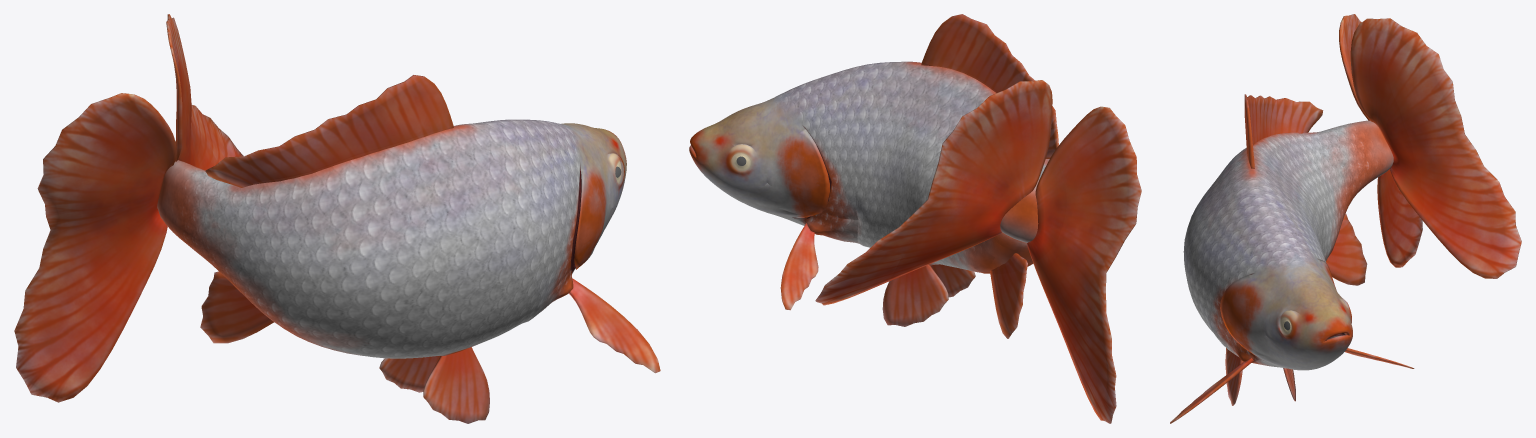
File: jikin.glb
The picture shows the model from 3 angles, left to right: view 1: azimuth 30°, elevation 25°; view 2: azimuth 150°, elevation 25°; view 3: azimuth 270°, elevation 25°; orthographic projection. The views are drawn at different scales.
Parts seen in each view (by area): view 1: SW_Jikin_Body_M_JikinBody_0, SW_Jikin_FinCaudal_M_JikinFins_0, SW_Jikin_FinDorsal_M_JikinFins_0, SW_Jikin_FinPelvic_M_JikinFins_0, SW_Jikin_FinPectoral_M_JikinFins_0, SW_Jikin_FinAnal_M_JikinFins_0; view 2: SW_Jikin_FinCaudal_M_JikinFins_0, SW_Jikin_Body_M_JikinBody_0, SW_Jikin_FinDorsal_M_JikinFins_0, SW_Jikin_FinPelvic_M_JikinFins_0, SW_Jikin_FinAnal_M_JikinFins_0, SW_Jikin_FinPectoral_M_JikinFins_0, SW_Jikin_Eyes_M_Cornea_0, SW_Jikin_Eyes_M_Iris_0; view 3: SW_Jikin_Body_M_JikinBody_0, SW_Jikin_FinCaudal_M_JikinFins_0, SW_Jikin_FinDorsal_M_JikinFins_0, SW_Jikin_FinAnal_M_JikinFins_0, SW_Jikin_FinPectoral_M_JikinFins_0, SW_Jikin_FinPelvic_M_JikinFins_0, SW_Jikin_Eyes_M_Cornea_0.
Part boxes in pixels (box(x1,y1,x2,y2)): SW_Jikin_Body_M_JikinBody_0: box(157, 119, 626, 358); SW_Jikin_FinCaudal_M_JikinFins_0: box(14, 14, 243, 402); SW_Jikin_FinDorsal_M_JikinFins_0: box(205, 75, 453, 187); SW_Jikin_FinPelvic_M_JikinFins_0: box(379, 347, 489, 423); SW_Jikin_FinPectoral_M_JikinFins_0: box(569, 278, 660, 373); SW_Jikin_FinAnal_M_JikinFins_0: box(200, 271, 273, 343); SW_Jikin_FinCaudal_M_JikinFins_0: box(815, 80, 1141, 423); SW_Jikin_Body_M_JikinBody_0: box(689, 61, 1049, 273); SW_Jikin_FinDorsal_M_JikinFins_0: box(921, 14, 1058, 158); SW_Jikin_FinPelvic_M_JikinFins_0: box(882, 264, 975, 326); SW_Jikin_FinAnal_M_JikinFins_0: box(990, 253, 1027, 338); SW_Jikin_FinPectoral_M_JikinFins_0: box(780, 223, 818, 310); SW_Jikin_Eyes_M_Cornea_0: box(730, 145, 752, 172); SW_Jikin_Eyes_M_Iris_0: box(730, 145, 753, 172); SW_Jikin_Body_M_JikinBody_0: box(1183, 120, 1393, 370); SW_Jikin_FinCaudal_M_JikinFins_0: box(1339, 14, 1521, 278); SW_Jikin_FinDorsal_M_JikinFins_0: box(1244, 94, 1323, 168); SW_Jikin_FinAnal_M_JikinFins_0: box(1326, 213, 1367, 285); SW_Jikin_FinPectoral_M_JikinFins_0: box(1170, 348, 1414, 423); SW_Jikin_FinPelvic_M_JikinFins_0: box(1225, 328, 1295, 405); SW_Jikin_Eyes_M_Cornea_0: box(1279, 299, 1349, 335).
Size of the model in its own units: 2 by 1.32 by 1.39.
Materials: 5 (1 with a texture image).
